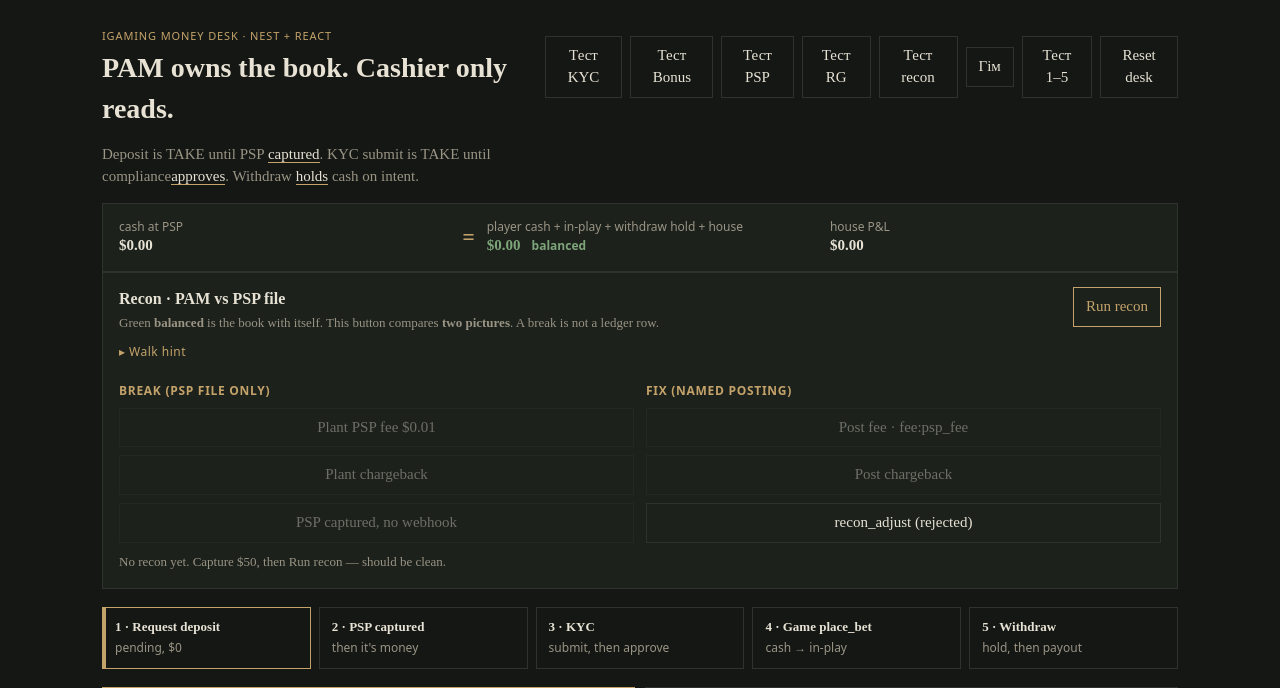
it: run recon shows a $0.01 fee break
Click the button with test id "run-recon".
click(1117, 307)  # box top-left (1073, 287), bottom-right (1161, 327)
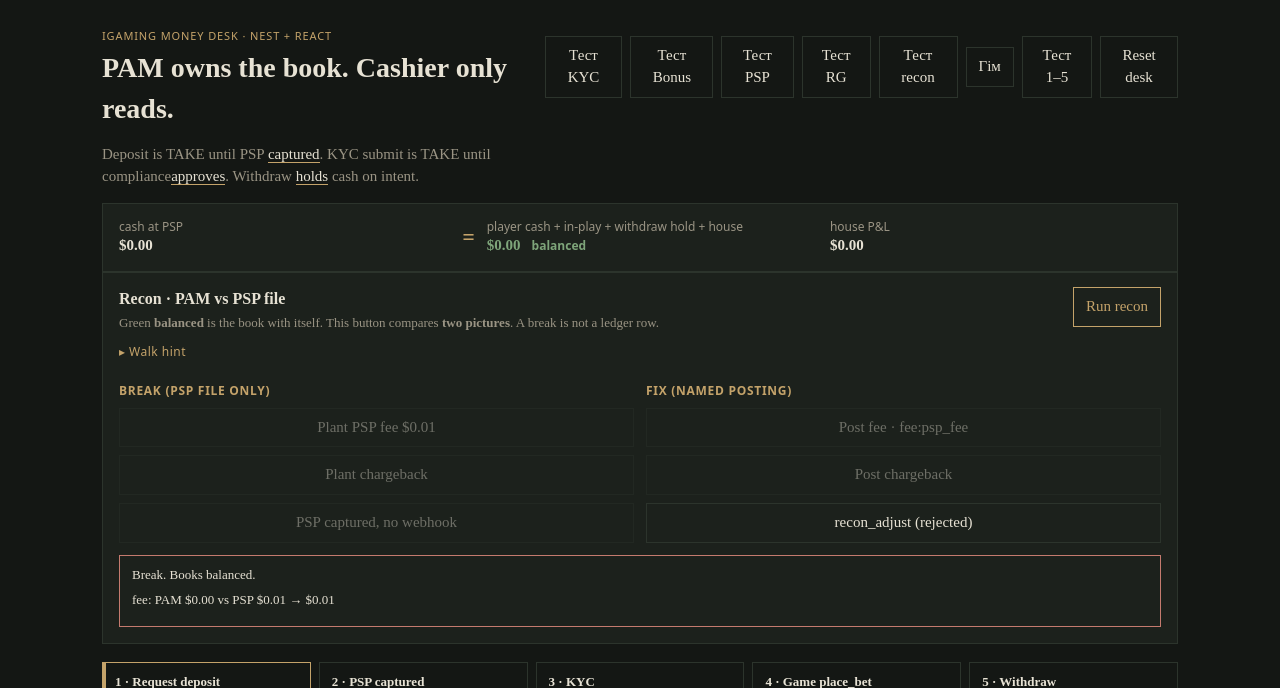
Check: the element with test id "recon-result" shows "$0.01", box top-left (257, 592), bottom-right (286, 607)
